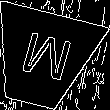M_S: (12, 29, 73, 89)
